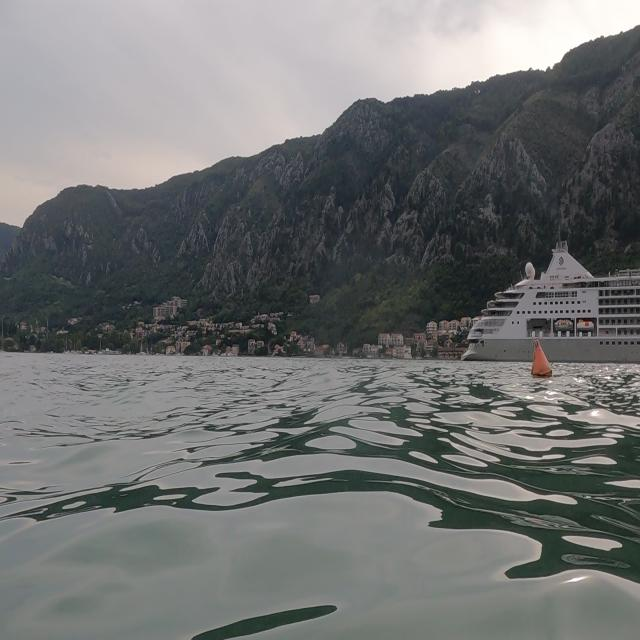boat: (459, 225, 638, 367)
buoy: (528, 334, 555, 384)
